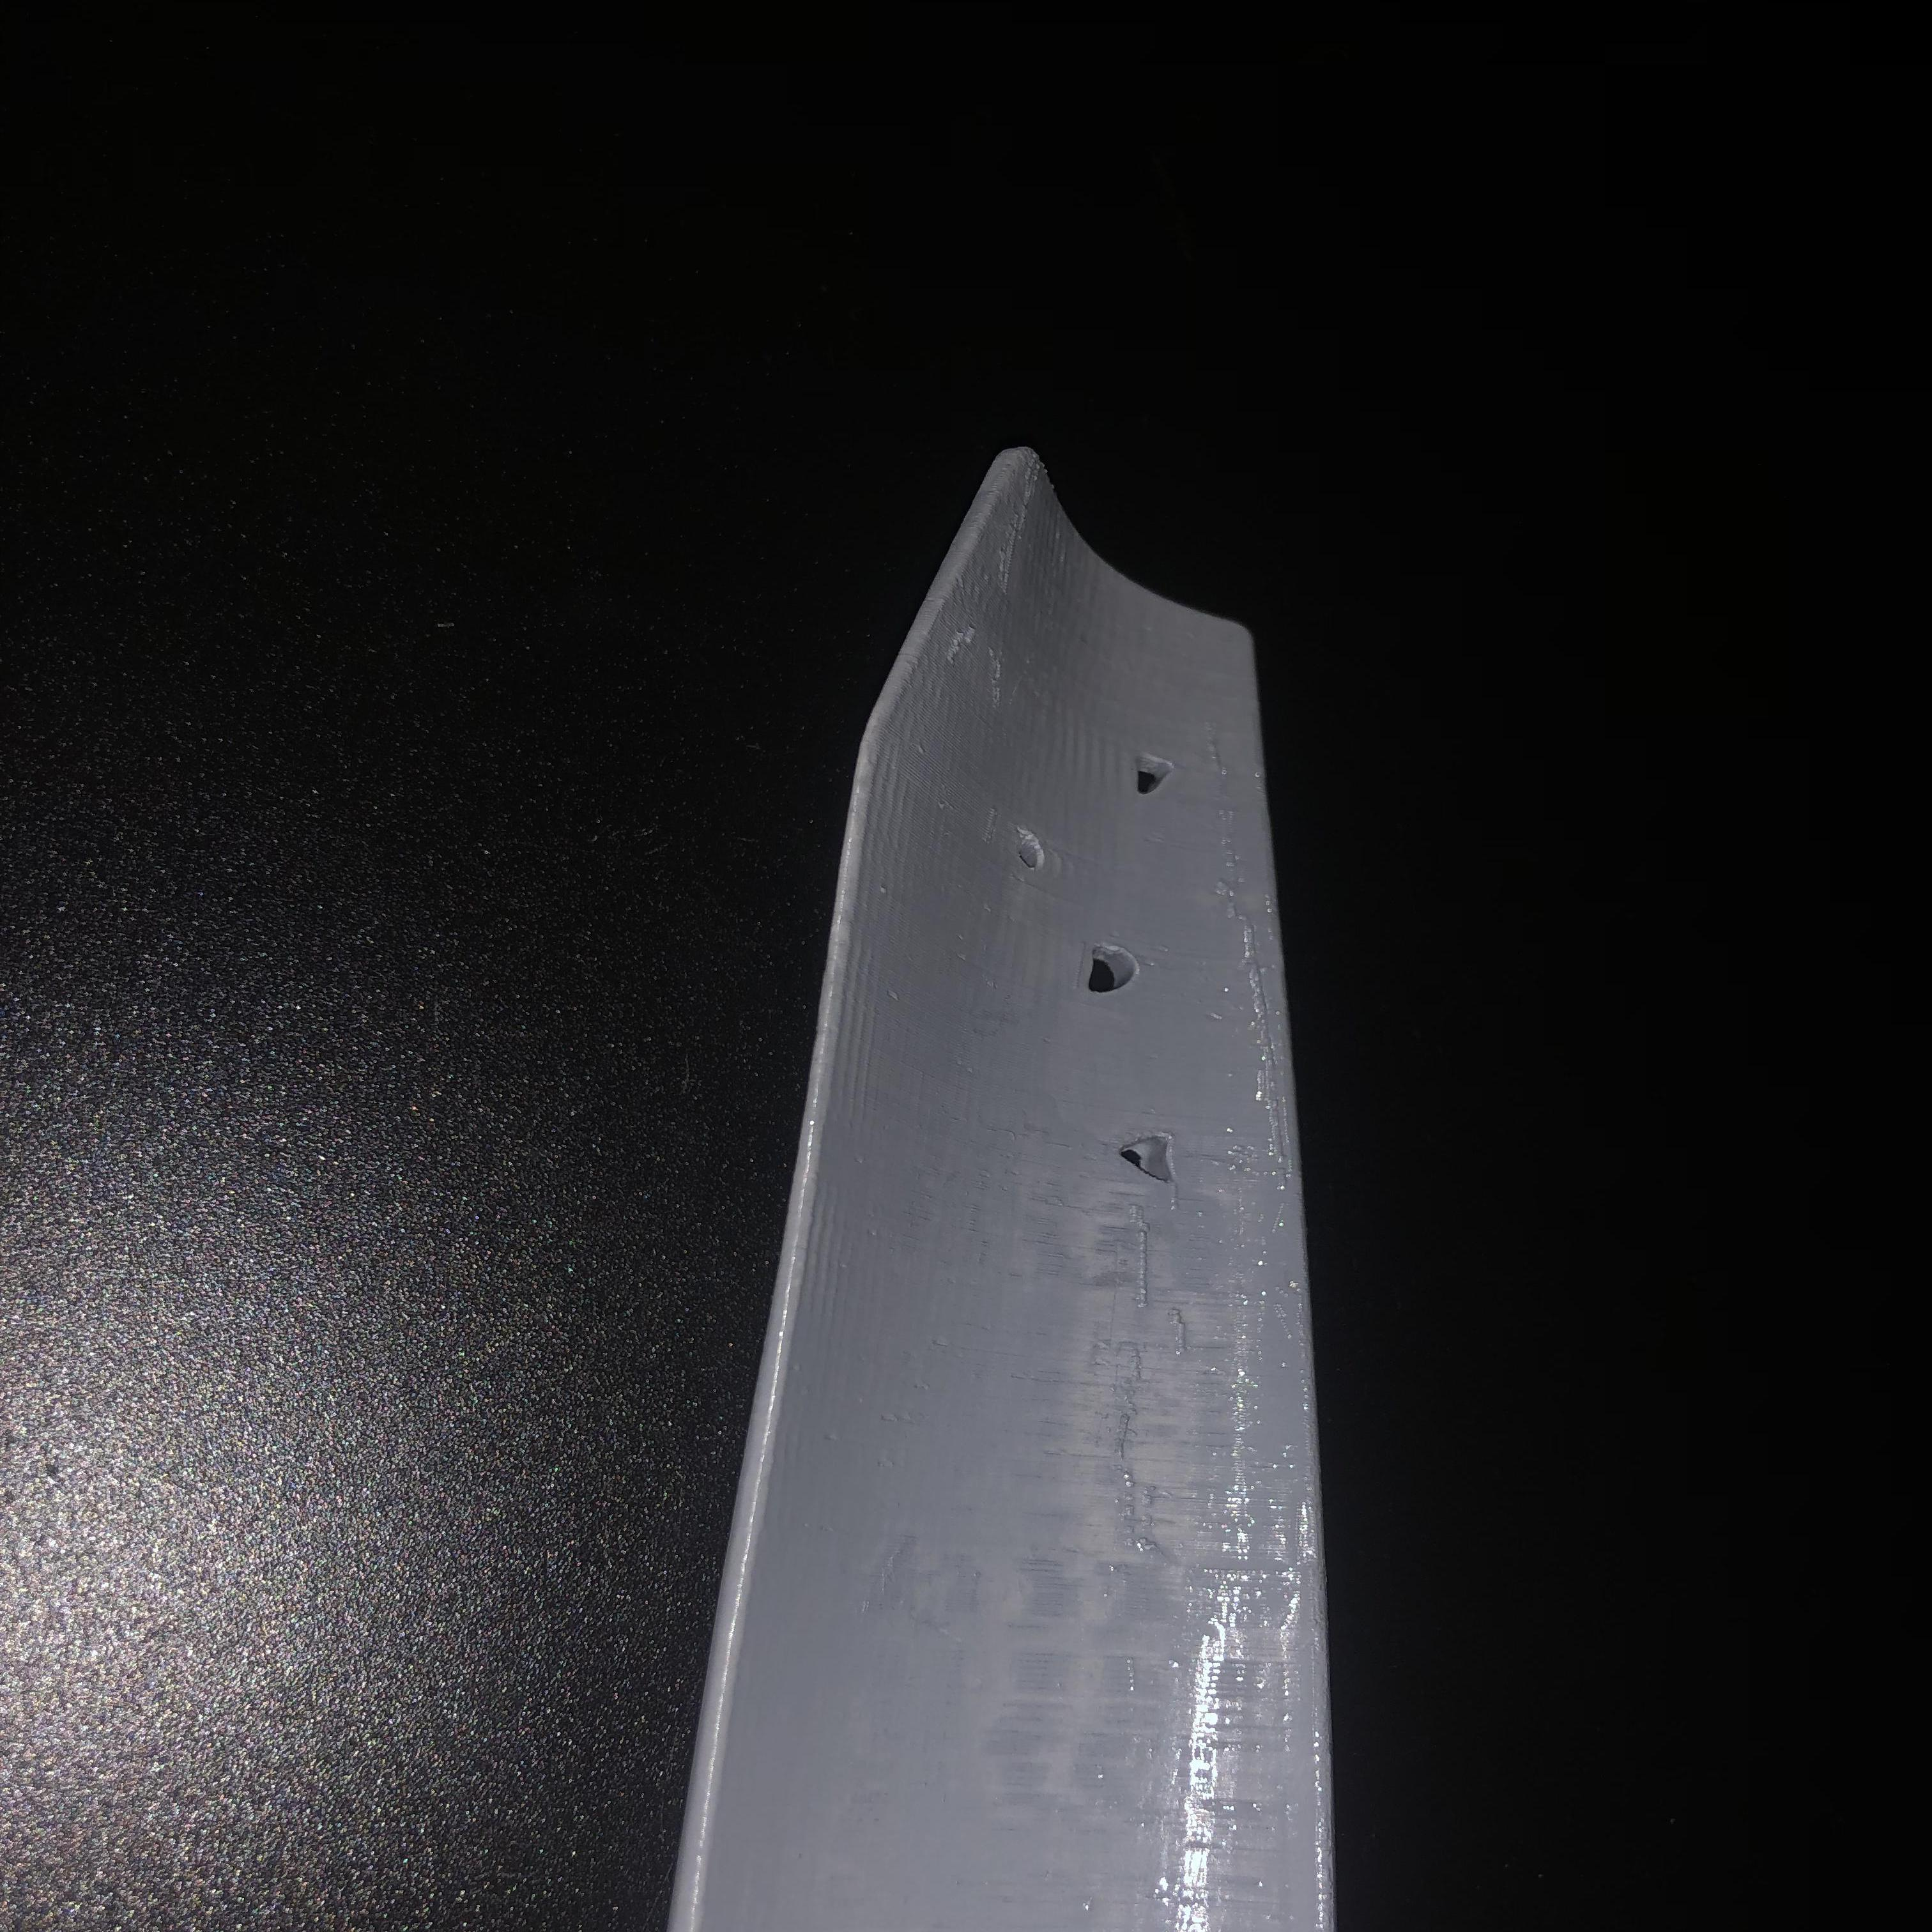breakdown: (1021, 754, 1203, 1198)
